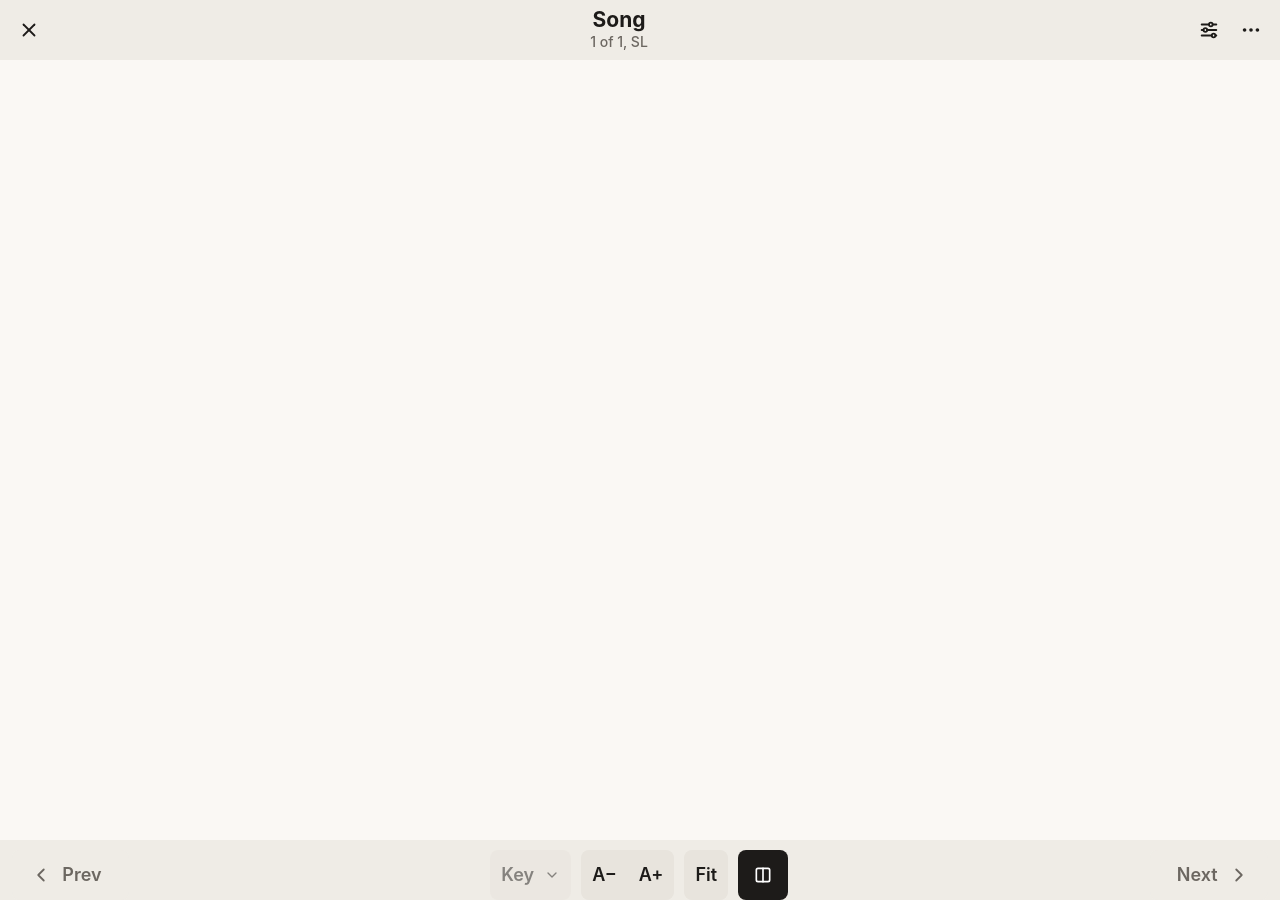
Test: SetlistPlayView target key › opens setlist defaults beside their button and Escape closes them without leaving playback
Click the button named "Setlist defaults" at (1209, 30), box [1188, 9, 1230, 51]
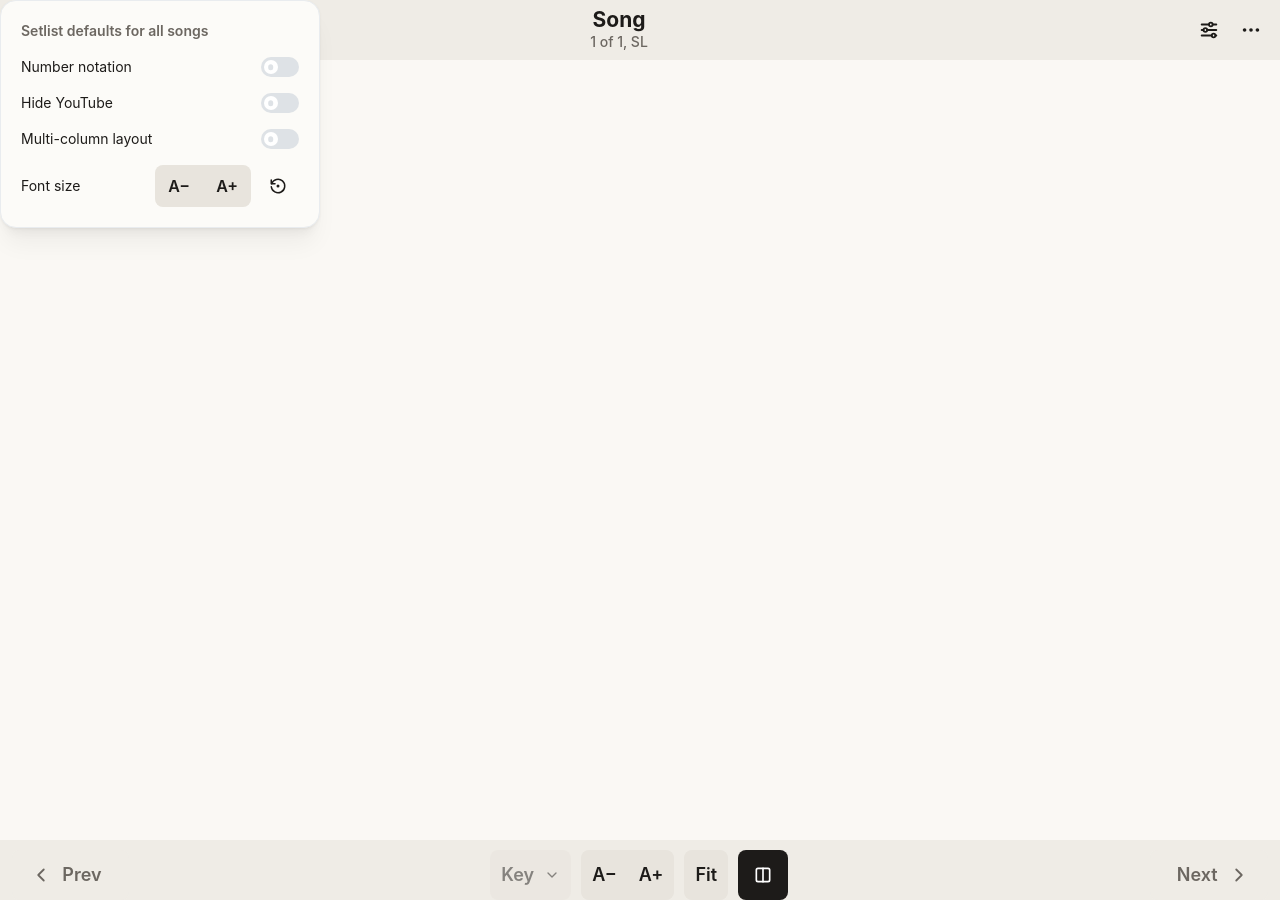
Result: the dialog shows "Setlist defaults for all songs" at [21, 22, 208, 39]
Press Escape in the dialog, box [0, 0, 320, 228]
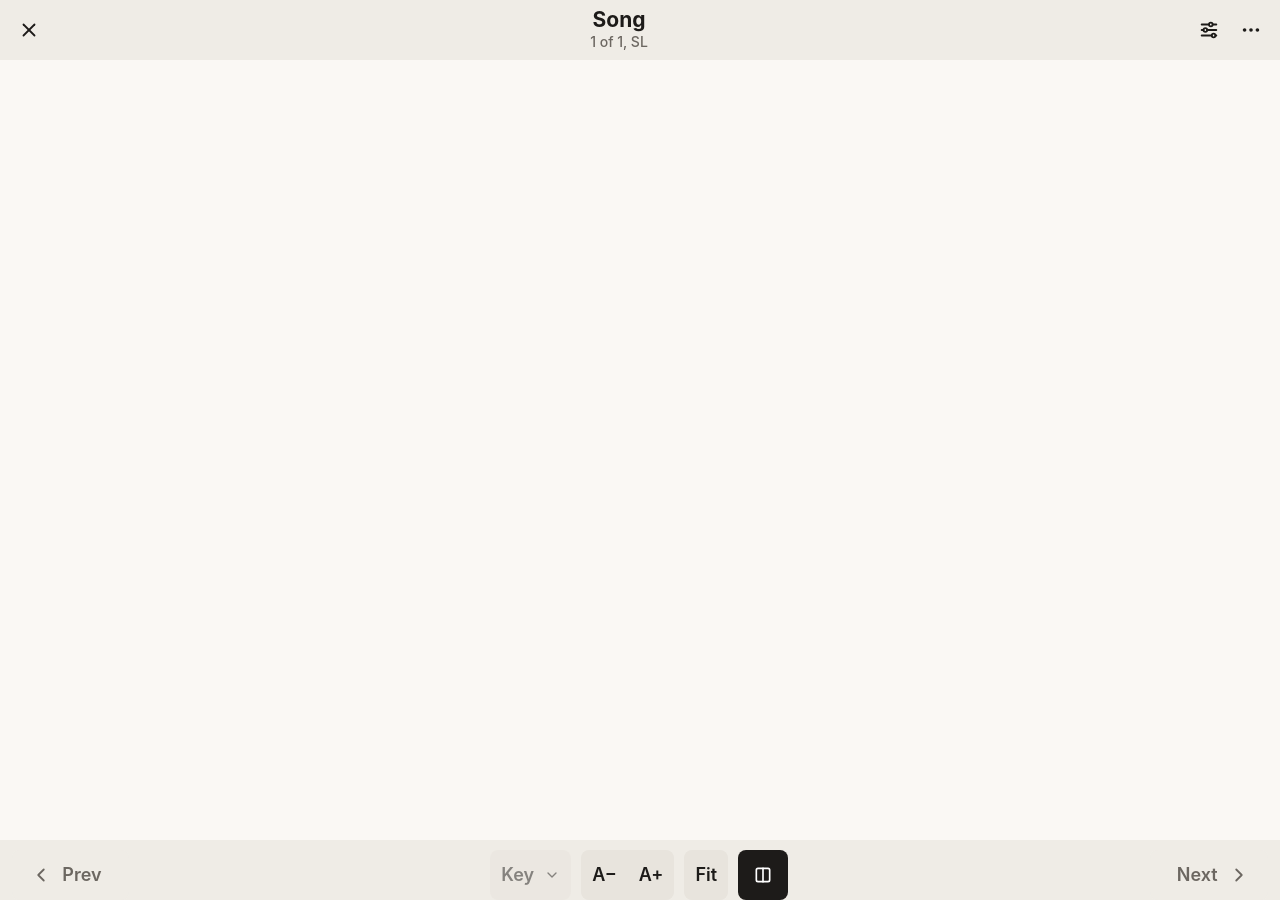
Result: the text "Setlist defaults for all songs" is gone
